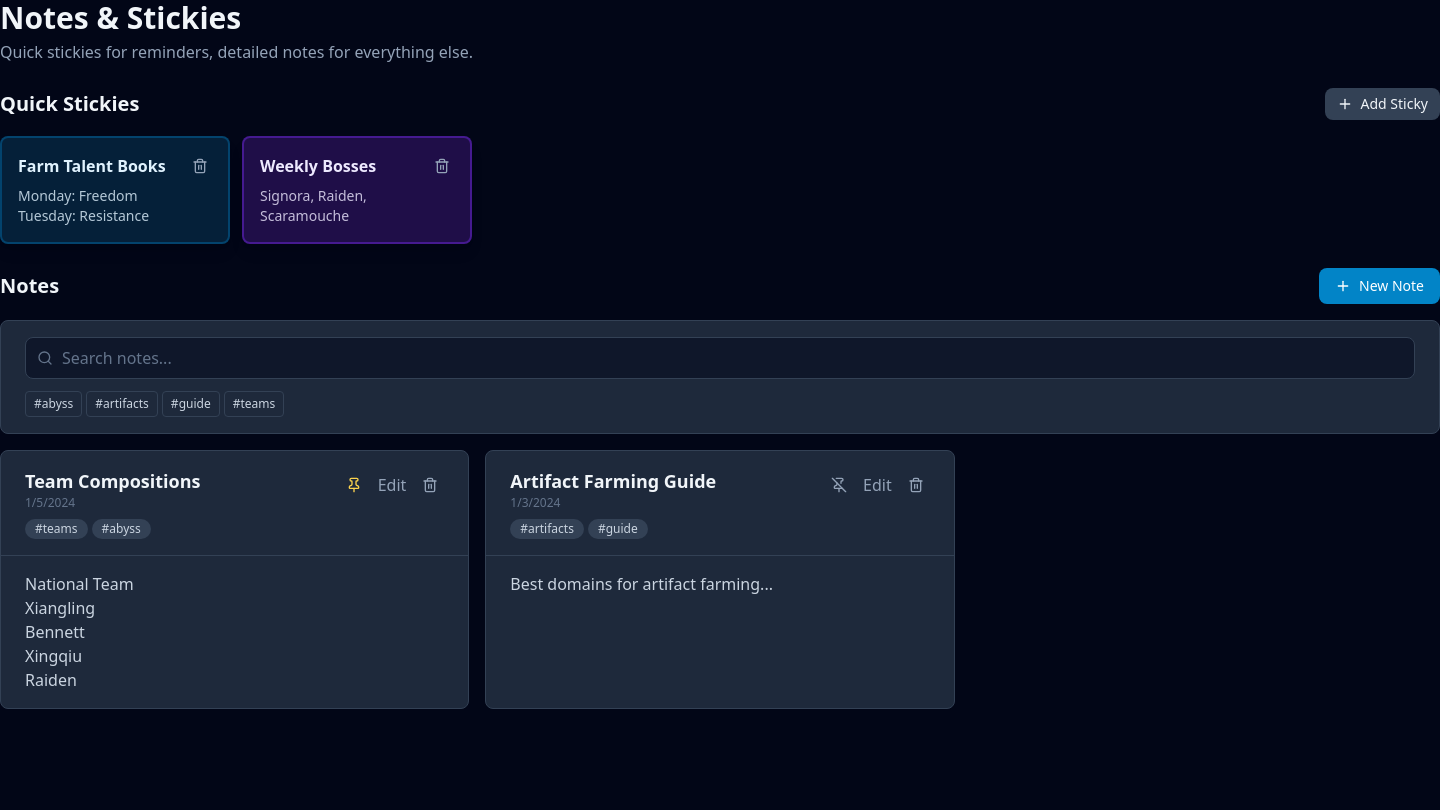
Scenario: NotesPage › sticky interactions › opens sticky editor when add sticky button is clicked
Click the button "Add Sticky": (1382, 104) [1324,88,1439,120]
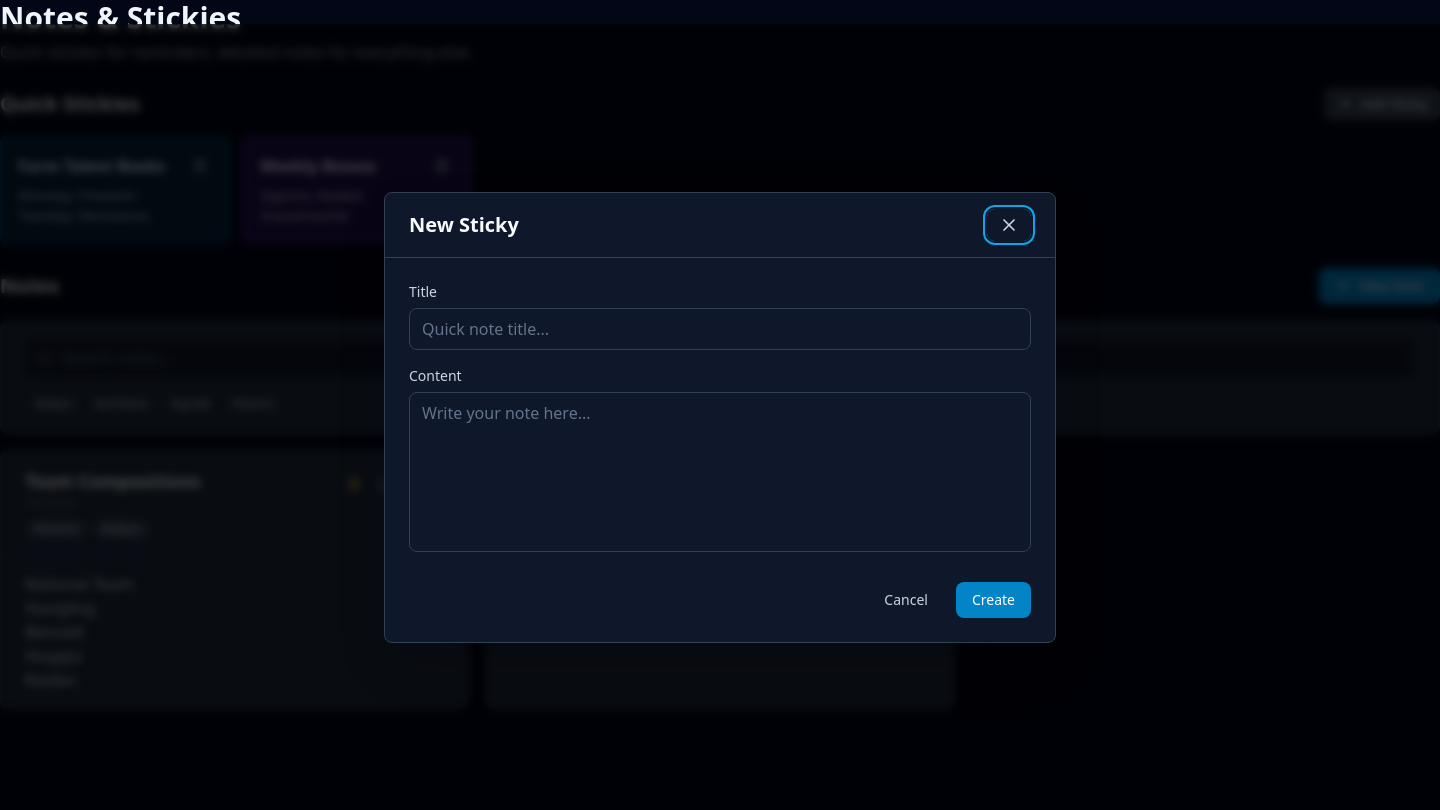
Result: the dialog is shown
Result: the heading "New Sticky" is shown at [409,210,519,238]
